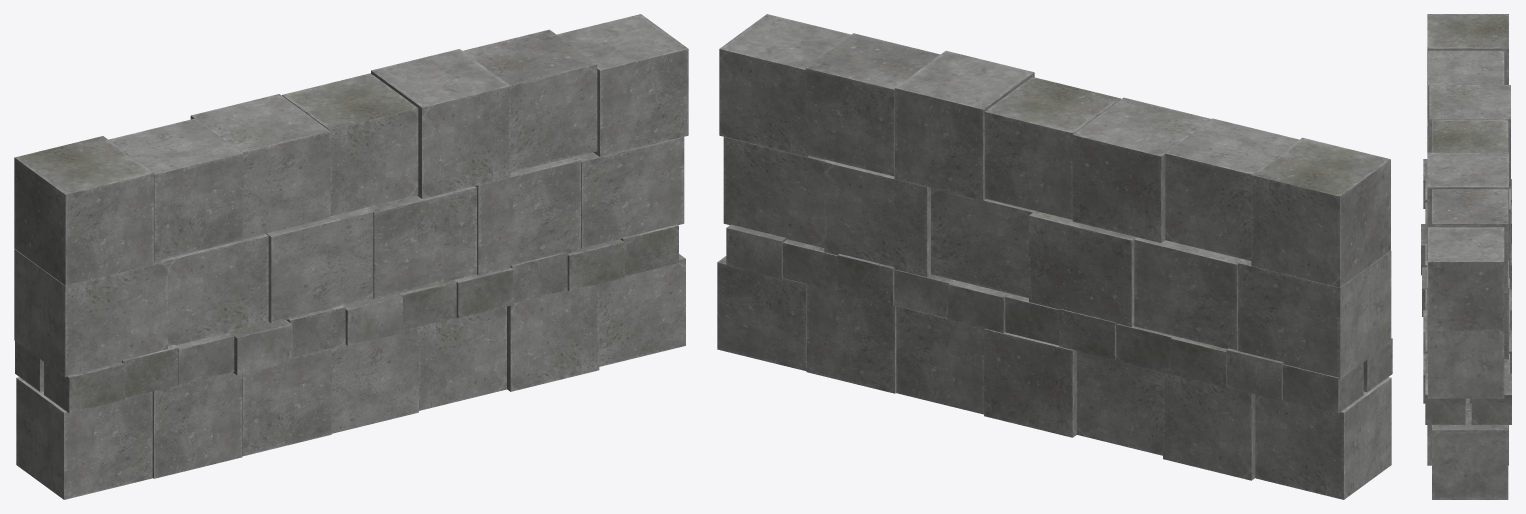
The model's file is SM_wall_stoneblocks_02.fbx.
3 renders of one model, left to right at view 1: azimuth 30°, elevation 25°; view 2: azimuth 150°, elevation 25°; view 3: azimuth 270°, elevation 25°, orthographic. The views are drawn at different scales.
Visible parts, largest first — view 1: DarkFantasyObject00; view 2: DarkFantasyObject00; view 3: DarkFantasyObject00.
Part boxes in pixels (x1,y1,x2,y2): DarkFantasyObject00: [14, 14, 688, 499]; DarkFantasyObject00: [717, 14, 1392, 499]; DarkFantasyObject00: [1421, 14, 1511, 499].
Bounding box in the file's own units: 197 × 92.29 × 31.2.
